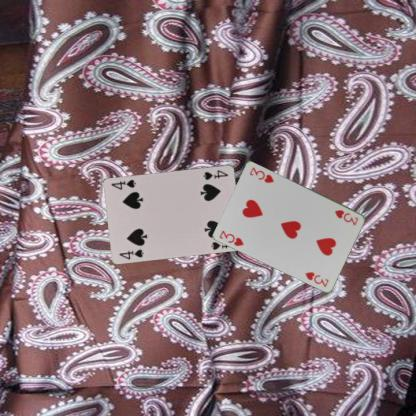3h: (332, 207, 360, 226), (217, 228, 245, 247)
4s: (201, 167, 229, 181), (117, 246, 145, 260)
